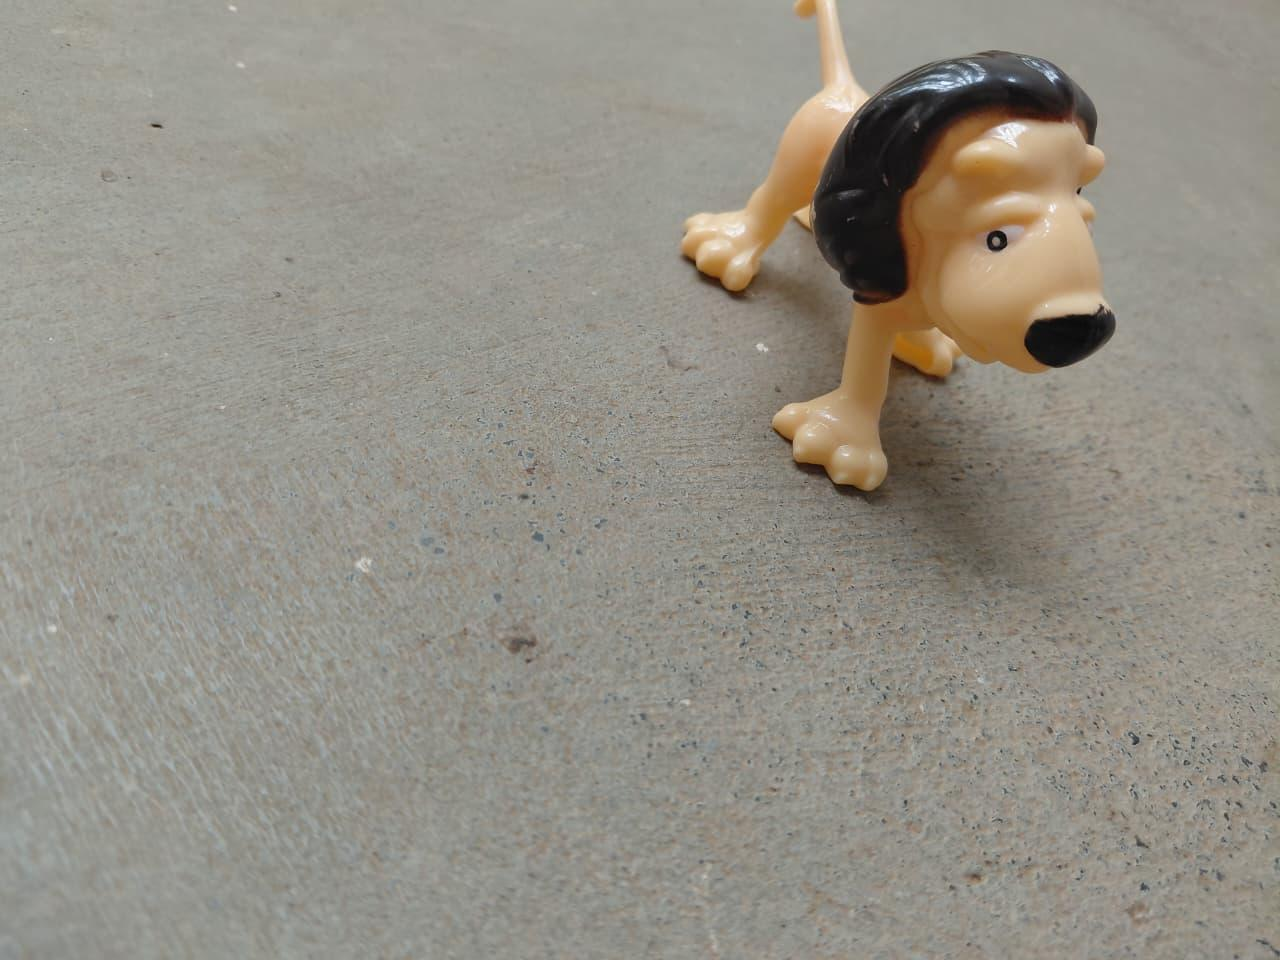lion: (668, 4, 1120, 508)
